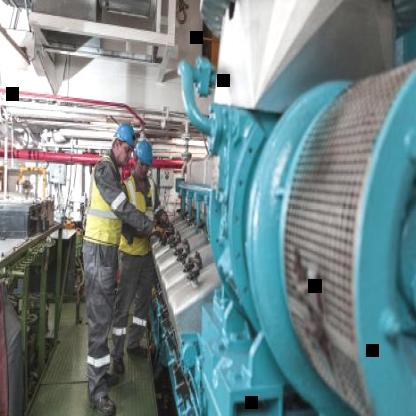helmet: (108, 116, 136, 164), (134, 140, 154, 180)
